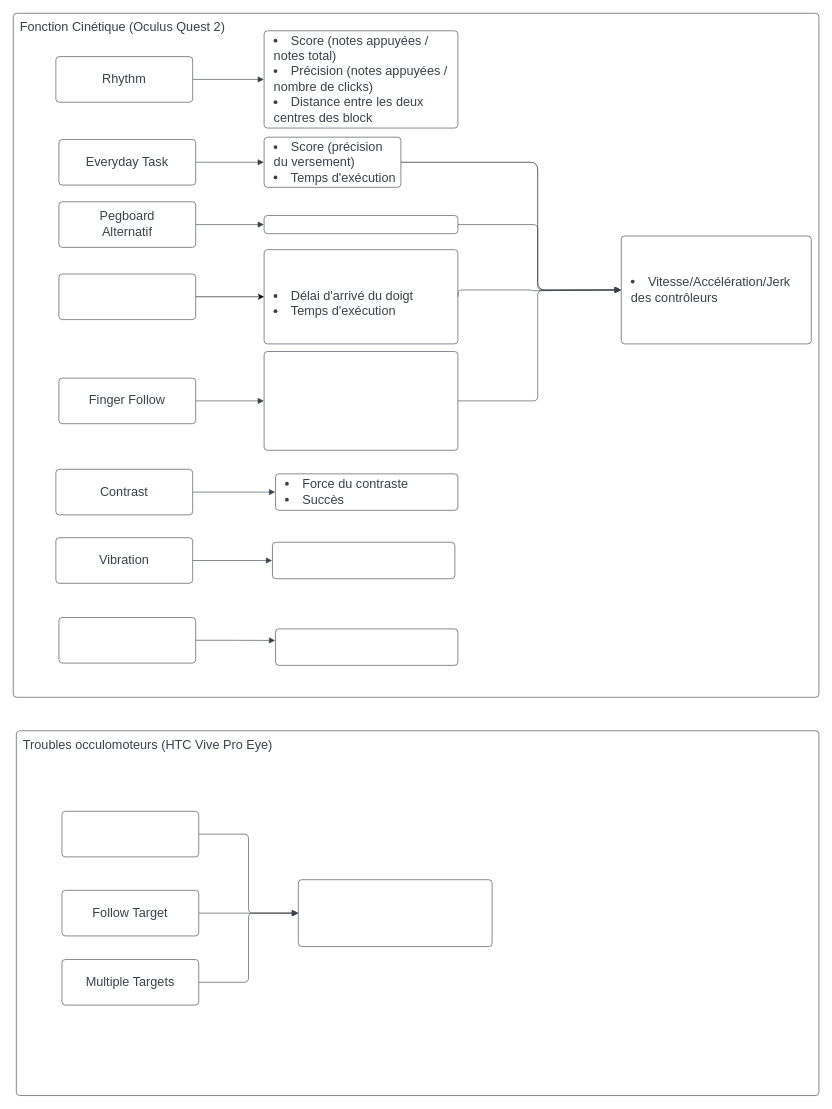
Some shapes in this 832 by 1109 pixel diagram are drawn without their labels. Each missing label, with the centre of its shape:
Finger Nose: the point at 127,296
Fix Target: the point at 130,834
Force de vibration: the point at 363,560
Speech Perception: the point at 127,640
Square Wave Jerks Nystagmus Dysmétrie Saccadique Flutter Oculaire: the point at 395,913
Succès Volume: the point at 366,646
Temps d'exécution: the point at 360,224
Temps de perte du focus sur le doigt RMSE Temps d'exécution: the point at 360,400
